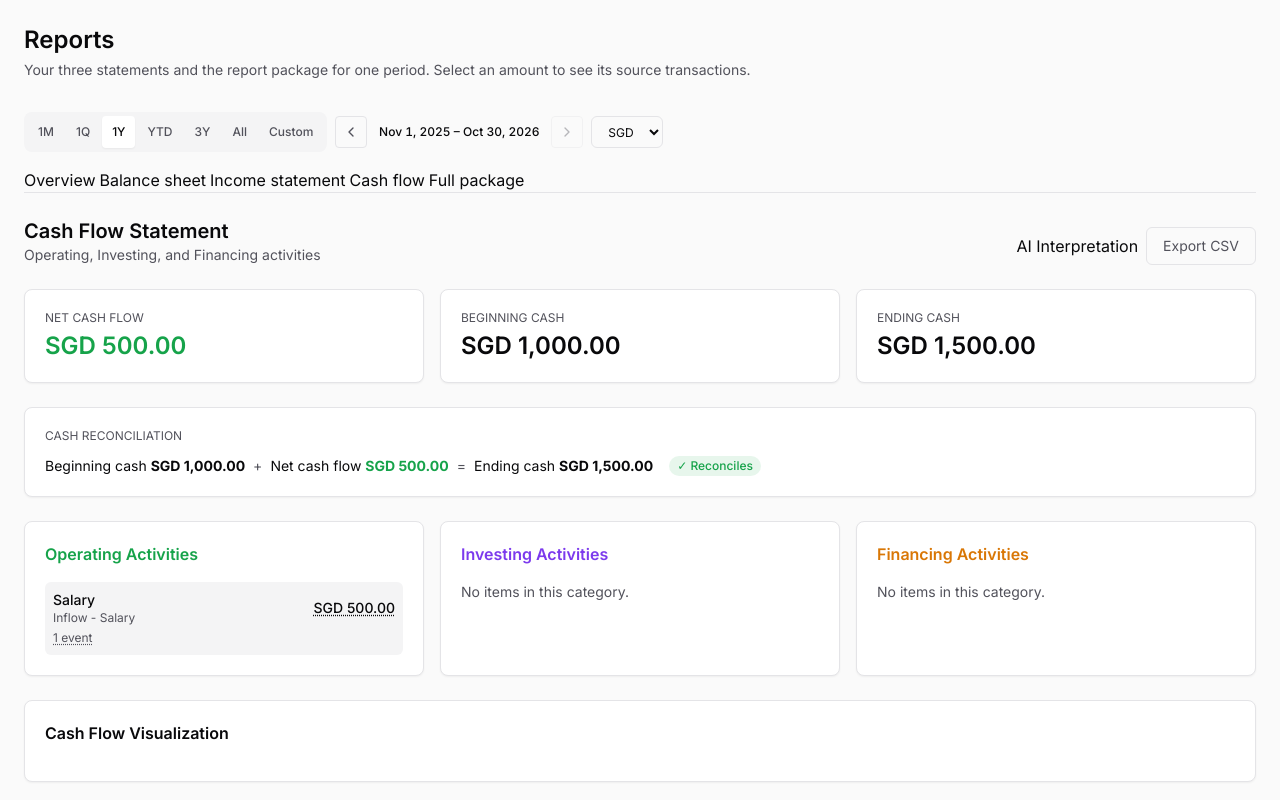
CashFlowPage › AC22.7.1 drills a cash-flow amount down to its account lineage
Click the button with aria-label "View source transactions for Salary": click(354, 608) 314,598 -> 395,618
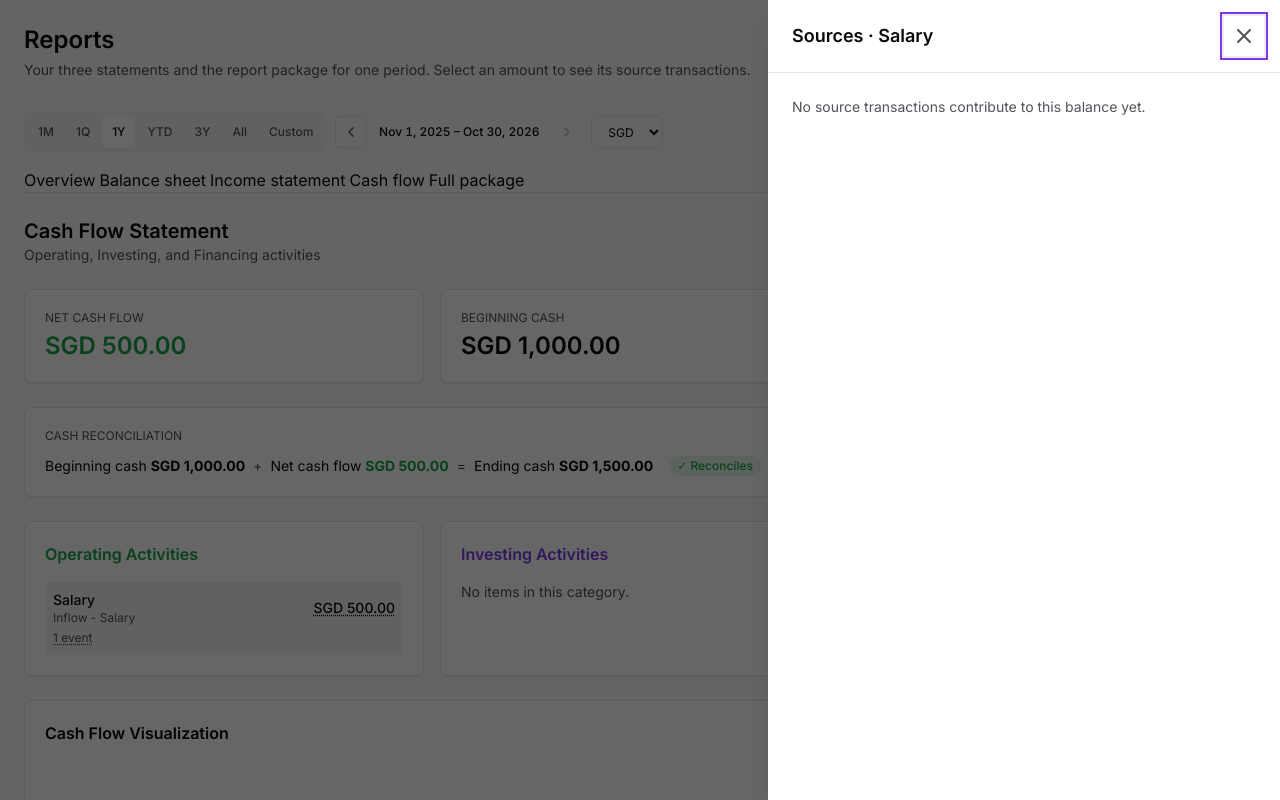
Closing the drawer clears the drill target.
Click the button named "close": click(1244, 36) 1224,16 -> 1264,56
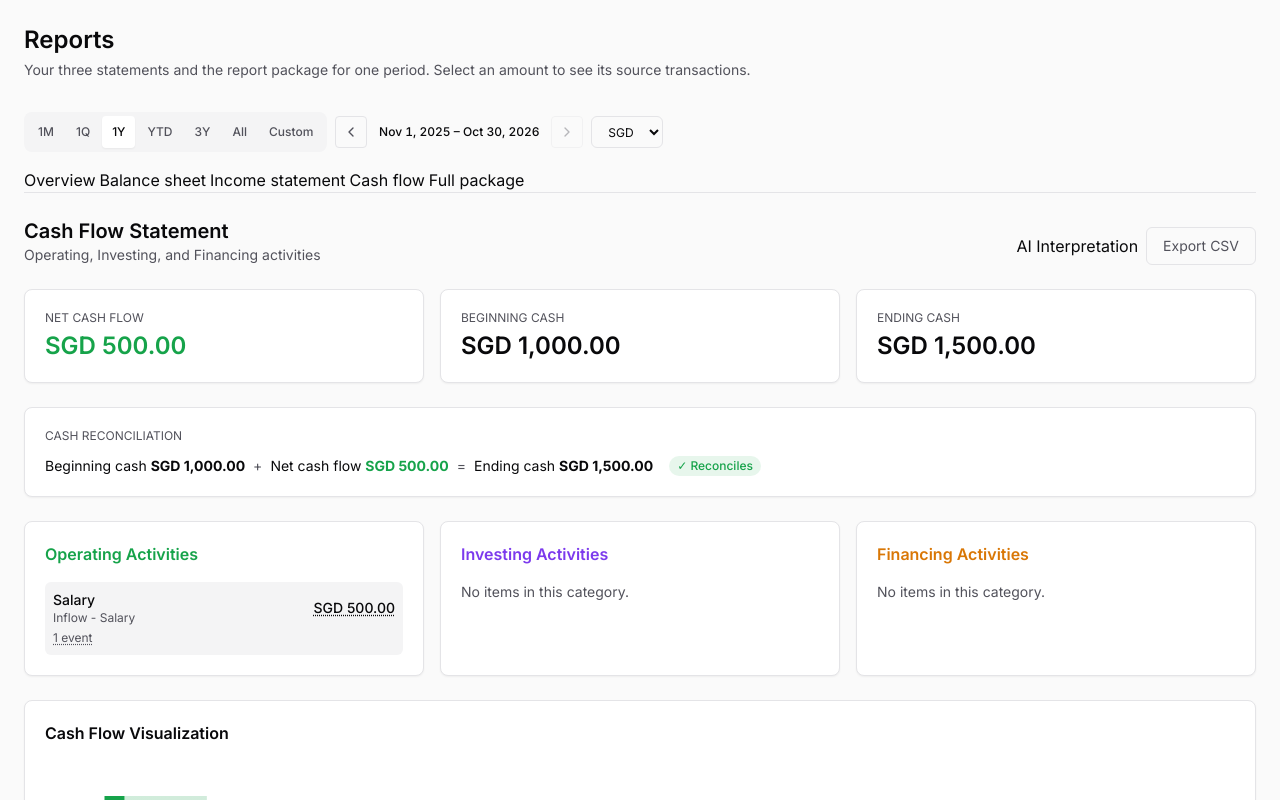
Expected: the dialog is gone
